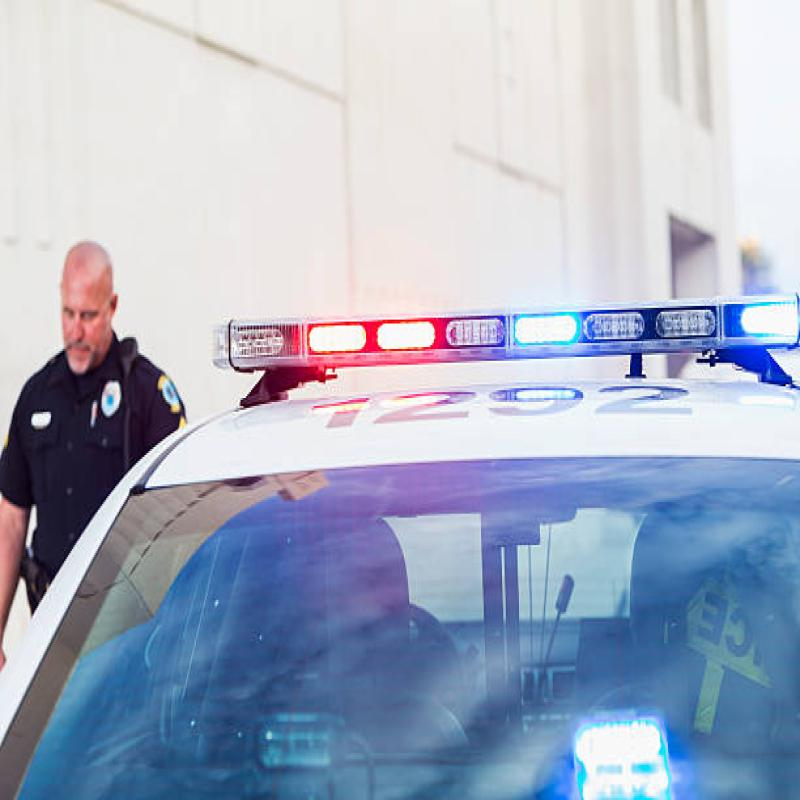AmbulanceSiren: (195, 290, 800, 380)
